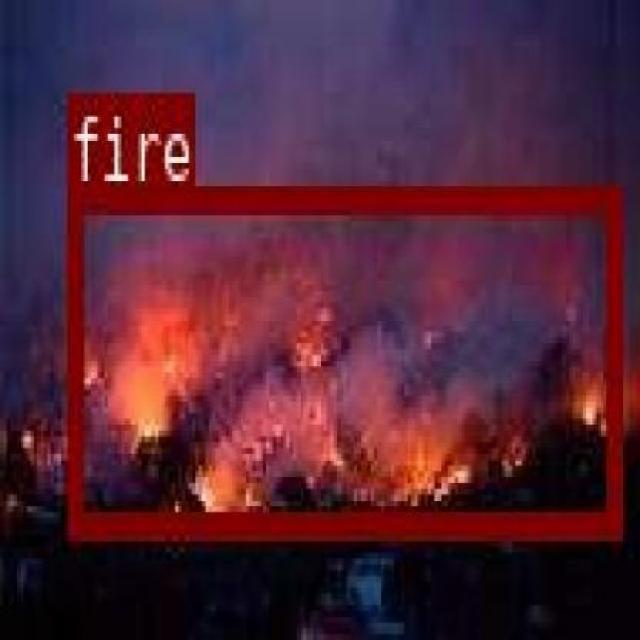fire: (65, 183, 618, 532)
